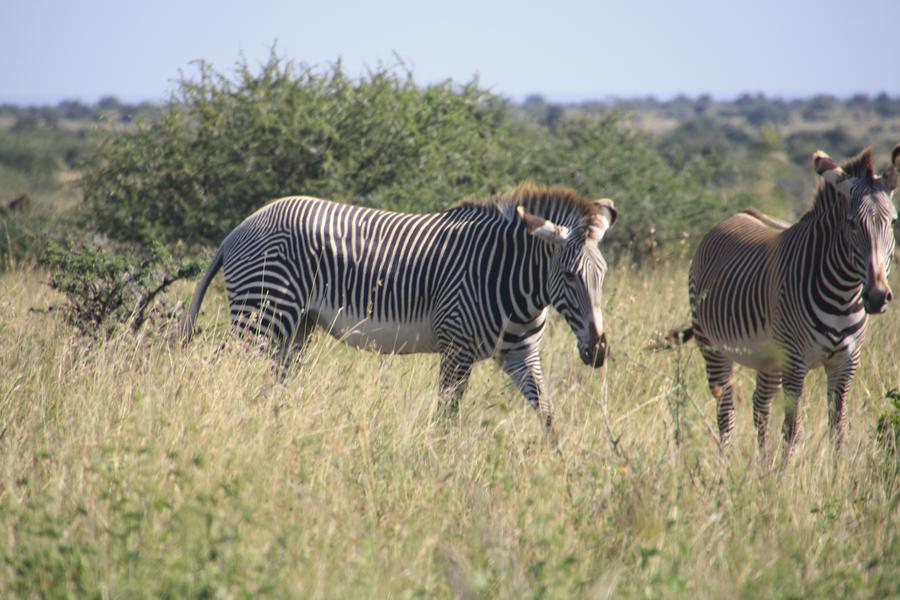zebra_grevys: (213, 174, 506, 350)
